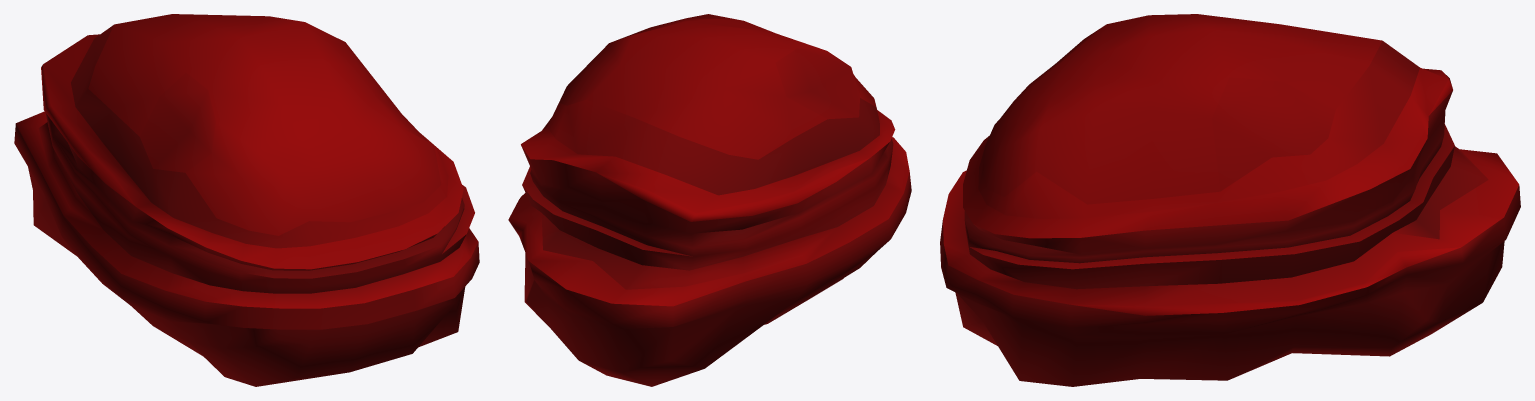
File: geology-rocks-layeredrock_v1.fbx
The picture shows the model from 3 angles, left to right: view 1: azimuth 30°, elevation 25°; view 2: azimuth 150°, elevation 25°; view 3: azimuth 270°, elevation 25°; orthographic projection. The views are drawn at different scales.
Visible parts, largest first — view 1: LayeredRock_v1; view 2: LayeredRock_v1; view 3: LayeredRock_v1.
Part boxes in pixels (x1,y1,x2,y2): LayeredRock_v1: (14,14,479,386); LayeredRock_v1: (508,14,911,386); LayeredRock_v1: (940,14,1520,386).
Bounding box in the file's own units: 7.82 × 6.67 × 11.36.
